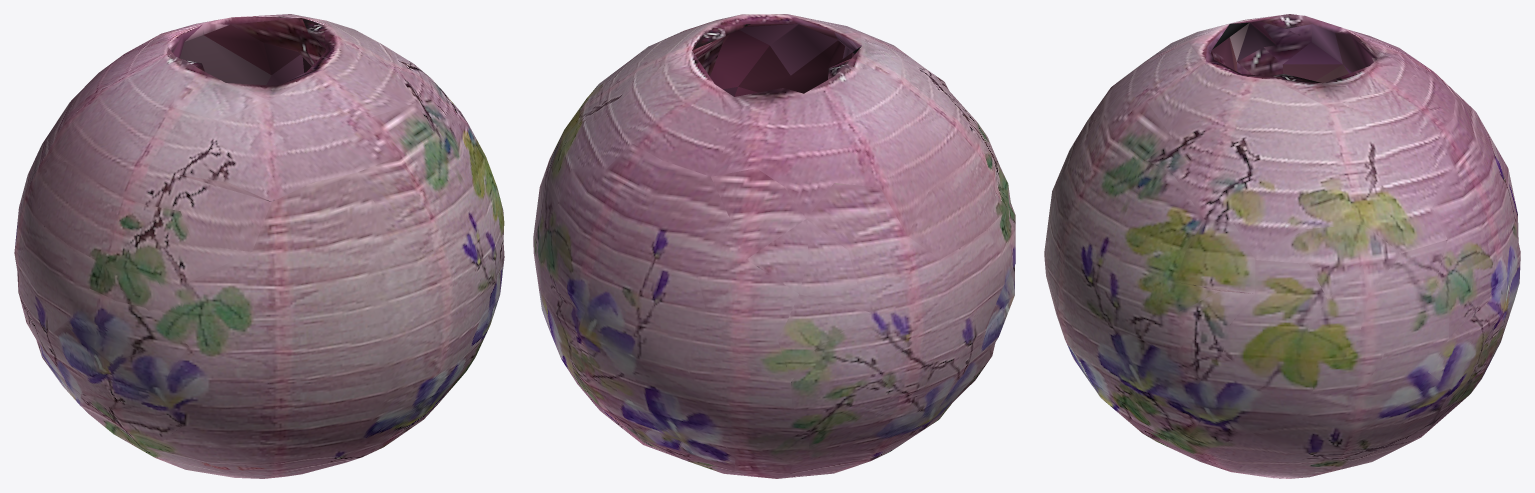
Rendered from AC4 Zea Mglory Flower.glb.
3 views of the same model, side by side, from view 1: azimuth 30°, elevation 25°; view 2: azimuth 150°, elevation 25°; view 3: azimuth 270°, elevation 25° (orthographic).
Bounding box in the file's own units: 1000 × 949 × 997.
Materials: 1 (1 with a texture image).
